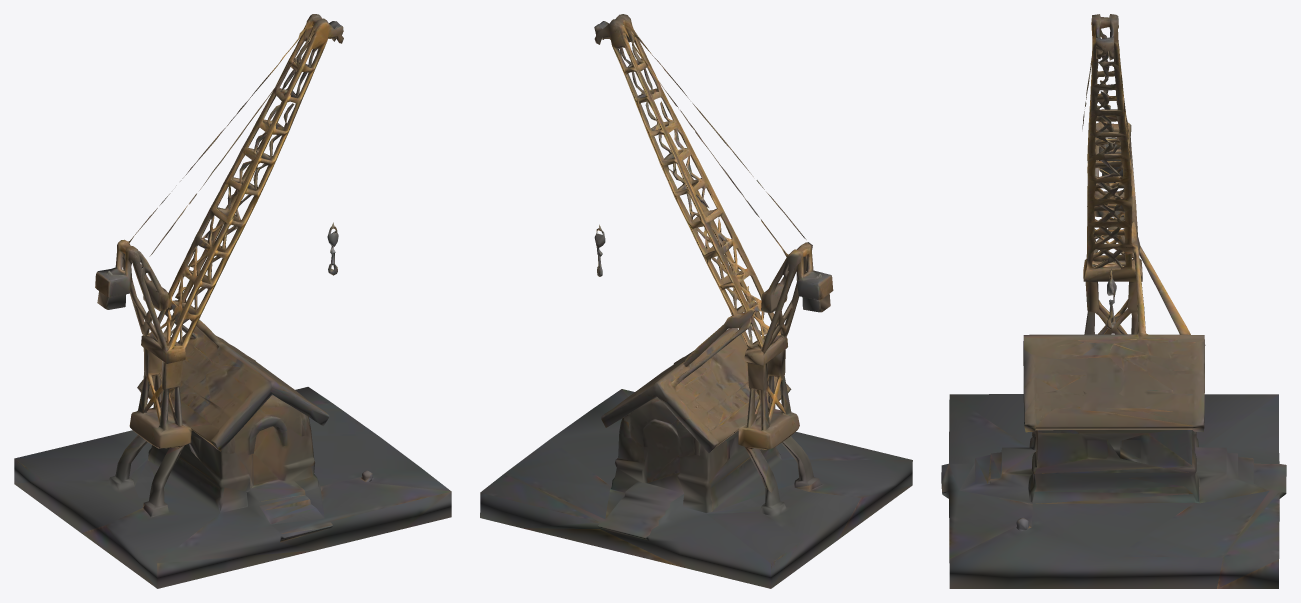
3 views of the same model, side by side, from view 1: azimuth 30°, elevation 25°; view 2: azimuth 150°, elevation 25°; view 3: azimuth 270°, elevation 25° (orthographic). The views are drawn at different scales.
Size of the model in its own units: 1.25 by 1.9 by 1.1.
Materials: 1 (1 with a texture image).
